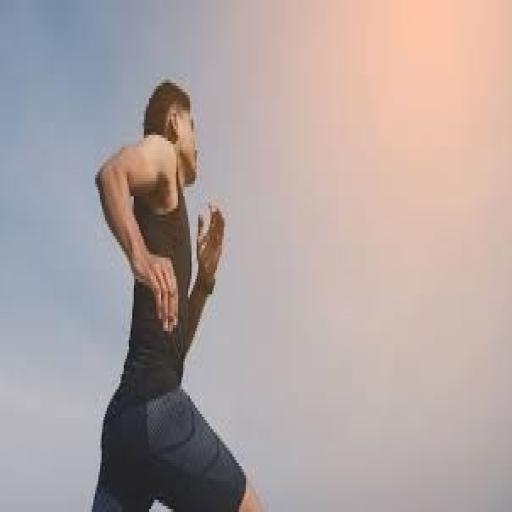running: (90, 77, 264, 509)
